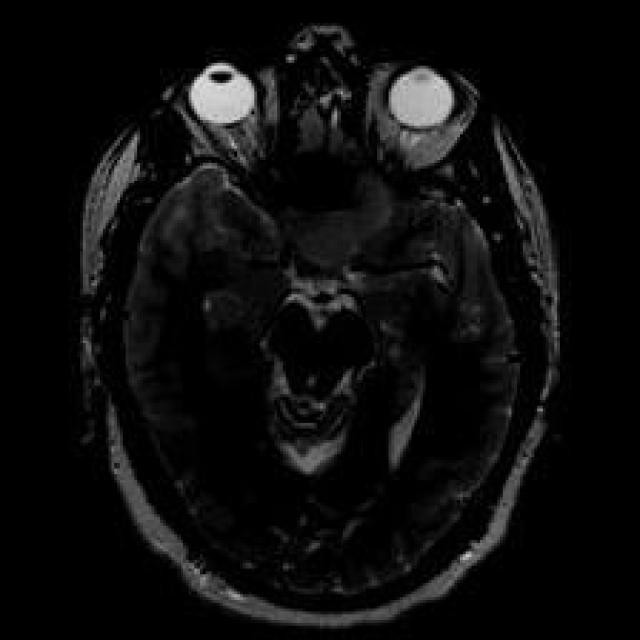no_tumor: (69, 18, 571, 640)
